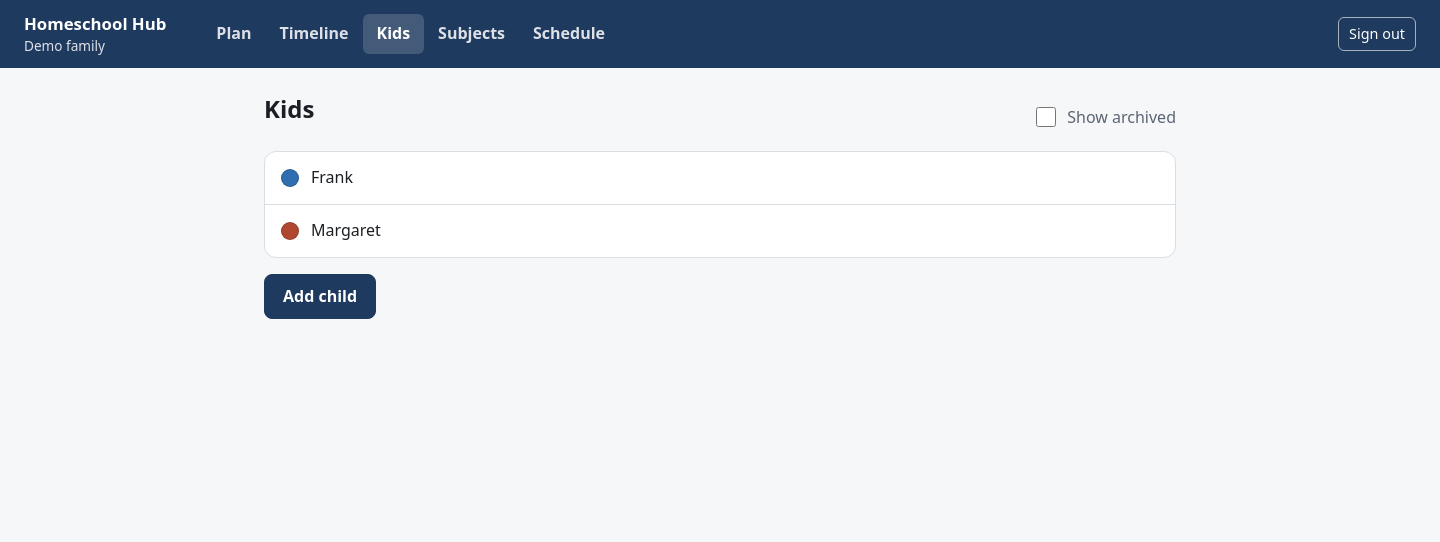
Test case: Edit child › recolor sends only the color
Check: the list named "Kids" is shown, box [264, 151, 1176, 258]
Click the button "Margaret" at (346, 230), box [265, 205, 1175, 257]
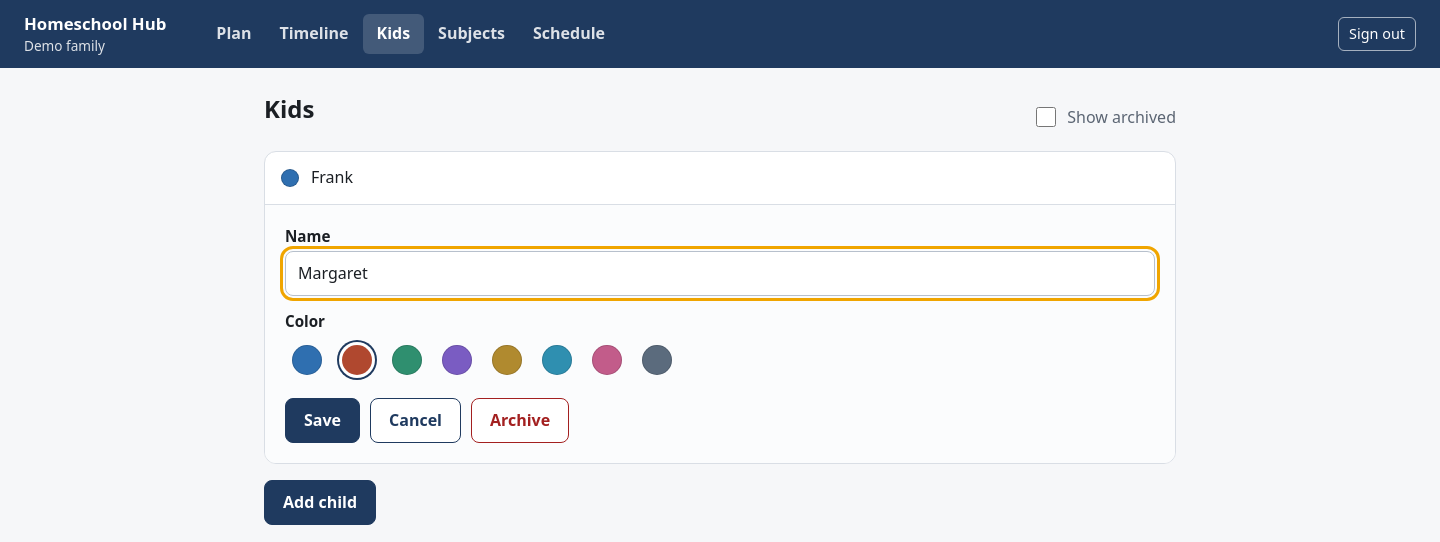
Click the radio button named "Green" at (407, 360), box [392, 345, 422, 375]
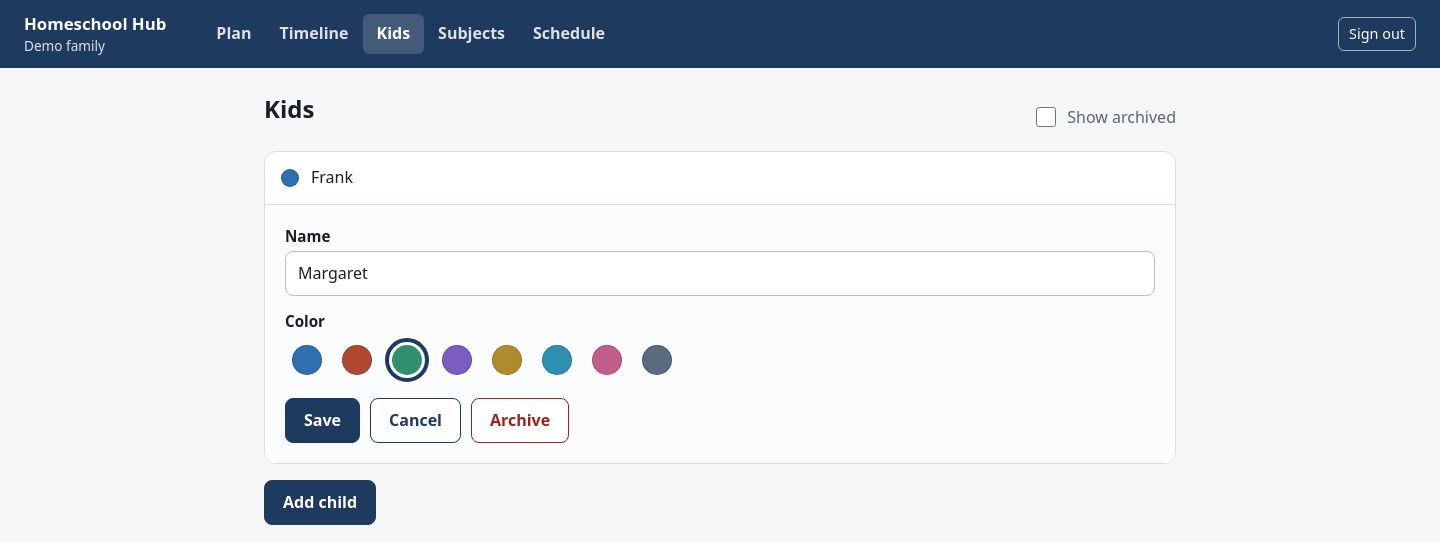
Click the button "Save" at (322, 421), box [285, 398, 360, 443]
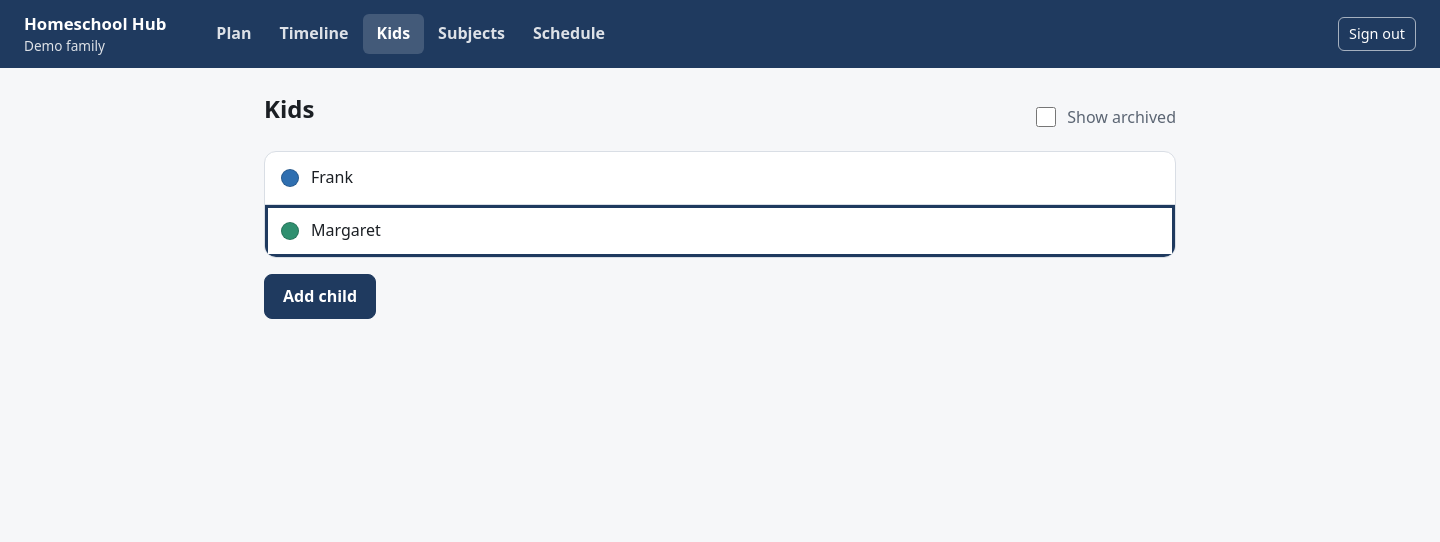
Check: the button "Margaret" is shown, box [265, 205, 1175, 257]
